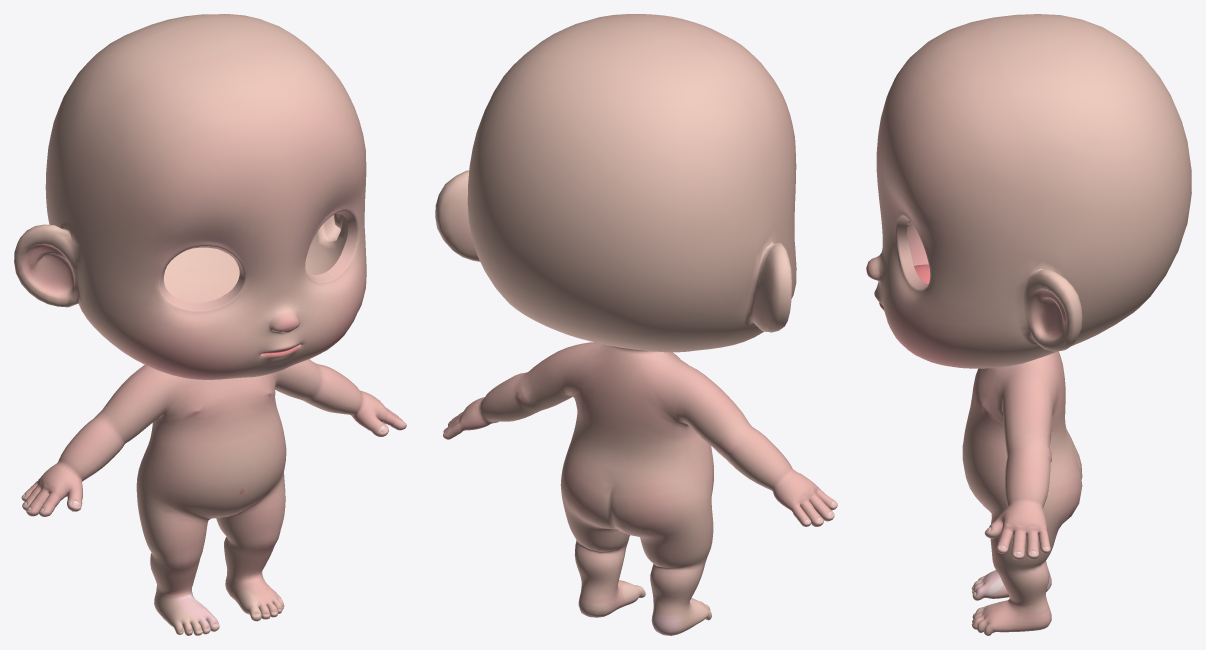
The model's file is JOJO_body.FBX.
3 views of the same model, side by side, from view 1: azimuth 30°, elevation 25°; view 2: azimuth 150°, elevation 25°; view 3: azimuth 270°, elevation 25° (orthographic). The views are drawn at different scales.
Visible parts, largest first — view 1: JOJO_body; view 2: JOJO_body; view 3: JOJO_body.
Part boxes in pixels (x1,y1,x2,y2): JOJO_body: (14, 14, 406, 635); JOJO_body: (435, 14, 837, 635); JOJO_body: (866, 14, 1191, 635).
Size of the model in its own units: 42.36 by 61.73 by 31.64.
